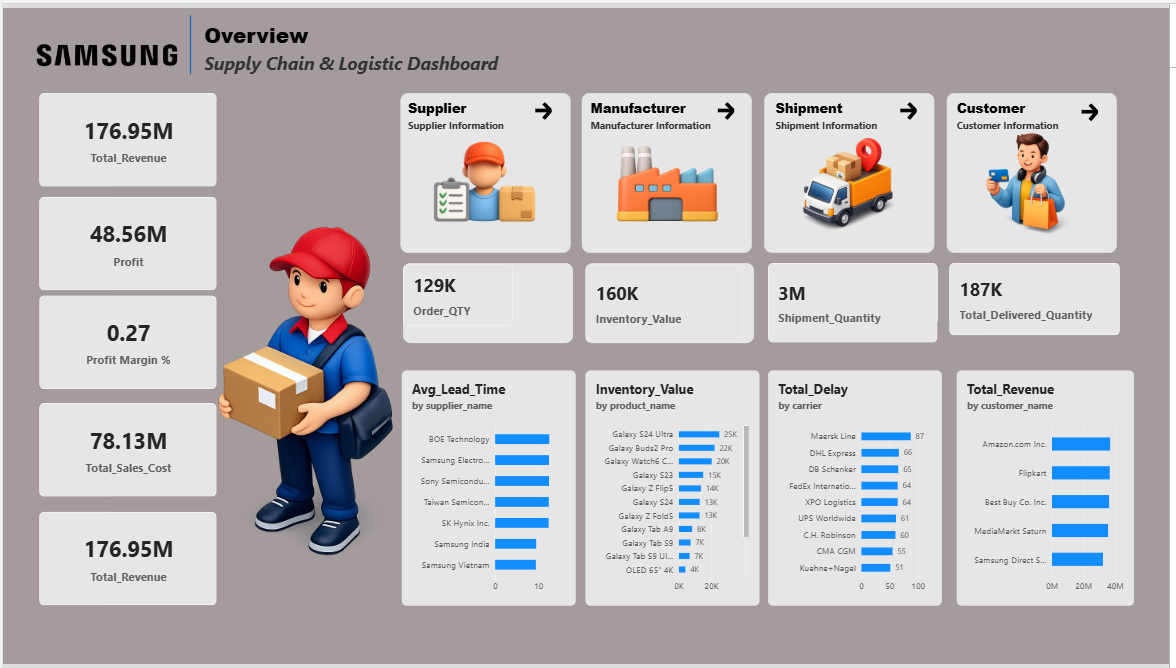

Layout of this report page (visuals, bound fields, positions):
{"tool":"powerbi","page":{"name":"Page 1","canvas":[1920,1080],"ordinal":0},"visuals":[{"type":"shape","box":[653.7,140,279.9,263.5],"z":0},{"type":"shape","box":[953.5,140,279.9,263.5],"z":1000},{"type":"shape","box":[1253.3,140,279.9,263.5],"z":2000},{"type":"shape","box":[1553.2,140,279.9,263.5],"z":3000},{"type":"image","box":[653.3,186.1,279.9,218.2],"z":4000},{"type":"image","box":[953.8,186.1,279.9,218.2],"z":5000},{"type":"image","box":[1254.3,186.1,279.9,218.2],"z":6000},{"type":"image","box":[1552.8,186.1,279.9,218.2],"z":7000},{"type":"actionButton","box":[846.8,140.8,86.4,59.7],"z":8000},{"type":"actionButton","box":[1147.3,140.8,86.4,59.7],"z":9000},{"type":"actionButton","box":[1447.8,140.8,86.4,59.7],"z":10000},{"type":"actionButton","box":[1746.2,142.8,86.4,59.7],"z":11000},{"type":"shape","title":"Supplier","box":[667.7,151.1,203.8,67.9],"z":12000},{"type":"shape","title":"Manufacturer","box":[968.2,151.1,205.8,67.9],"z":13000},{"type":"shape","title":"Shipment","box":[1272.8,151.1,203.8,67.9],"z":14000},{"type":"shape","title":"Customer","box":[1571.3,151.1,203.8,67.9],"z":15000},{"type":"shape","title":"Overview","box":[331.4,20.6,1506.7,88.5],"z":16000},{"type":"shape","box":[168.8,12.3,279.9,96.7],"z":17000},{"type":"cardVisual","fields":{"Data":["MeasuresTable.Total_Revenue"]},"box":[59.7,140,292.3,154.4],"z":18000},{"type":"cardVisual","fields":{"Data":["MeasuresTable.Profit"]},"box":[59.7,310.8,292.3,154.4],"z":19000},{"type":"cardVisual","fields":{"Data":["MeasuresTable.Profit Margin %"]},"box":[59.7,473.4,292.3,154.4],"z":20000},{"type":"cardVisual","fields":{"Data":["MeasuresTable.Total_Sales_Cost"]},"box":[59.7,650.4,292.3,154.4],"z":21000},{"type":"cardVisual","fields":{"Data":["MeasuresTable.Total_Revenue"]},"box":[59.7,829.5,292.3,154.4],"z":22000},{"type":"shape","box":[657.7,419.9,279.9,131.7],"z":23000},{"type":"shape","box":[958.2,419.9,277.9,131.7],"z":24000},{"type":"shape","box":[1258.7,419.9,279.9,105],"z":25000},{"type":"shape","box":[1557.2,419.9,279.9,105],"z":26000},{"type":"cardVisual","fields":{"Data":["MeasuresTable.Order_QTY"]},"box":[657.7,422,181.1,102.9],"z":27000},{"type":"cardVisual","fields":{"Data":["MeasuresTable.Inventory_Value"]},"box":[958.2,422,259.3,129.7],"z":28000},{"type":"cardVisual","fields":{"Data":["MeasuresTable.Total_Shipment_Quantity"]},"box":[1258.7,419.9,279.9,131.7],"z":29000},{"type":"cardVisual","fields":{"Data":["MeasuresTable.Total_Delivered_Quantity"]},"box":[1557.2,419.9,282,119.4],"z":30000},{"type":"clusteredBarChart","fields":{"Y":["MeasuresTable.Avg_Lead_Time"],"Category":["dim_supplier.supplier_name"]},"box":[655.6,596.9,286.1,387],"z":31000},{"type":"clusteredBarChart","fields":{"Y":["MeasuresTable.Inventory_Value"],"Category":["dim_product.product_name"]},"box":[958.2,596.9,286.1,387],"z":32000},{"type":"clusteredBarChart","fields":{"Category":["fact_shipment.carrier"],"Y":["MeasuresTable.Total_Delay"]},"box":[1258.7,596.9,286.1,387],"z":33000},{"type":"clusteredBarChart","fields":{"Y":["MeasuresTable.Total_Revenue"],"Category":["dim_customer.customer_name"]},"box":[1570.5,596.9,292.3,387],"z":34000},{"type":"image","box":[37,0,257.3,154.4],"z":35000},{"type":"textbox","box":[1770,473,150,154],"z":36000},{"type":"image","box":[172.9,203.8,673.1,876.8],"z":37000}]}

Visuals, with their boxes in screenshot pixels (x1, y1, x2, y2), scaled from the page's 1920x1080 canvas onto the 1176x668 screenshot:
shape: <bbox>400, 87, 572, 250</bbox>
shape: <bbox>584, 87, 755, 250</bbox>
shape: <bbox>768, 87, 939, 250</bbox>
shape: <bbox>951, 87, 1123, 250</bbox>
image: <bbox>400, 115, 572, 250</bbox>
image: <bbox>584, 115, 756, 250</bbox>
image: <bbox>768, 115, 940, 250</bbox>
image: <bbox>951, 115, 1123, 250</bbox>
actionButton: <bbox>519, 87, 572, 124</bbox>
actionButton: <bbox>703, 87, 756, 124</bbox>
actionButton: <bbox>887, 87, 940, 124</bbox>
actionButton: <bbox>1070, 88, 1122, 125</bbox>
"Supplier" shape: <bbox>409, 93, 534, 135</bbox>
"Manufacturer" shape: <bbox>593, 93, 719, 135</bbox>
"Shipment" shape: <bbox>780, 93, 904, 135</bbox>
"Customer" shape: <bbox>962, 93, 1087, 135</bbox>
"Overview" shape: <bbox>203, 13, 1126, 67</bbox>
shape: <bbox>103, 8, 275, 67</bbox>
cardVisual - MeasuresTable.Total_Revenue: <bbox>37, 87, 216, 182</bbox>
cardVisual - MeasuresTable.Profit: <bbox>37, 192, 216, 288</bbox>
cardVisual - MeasuresTable.Profit Margin %: <bbox>37, 293, 216, 388</bbox>
cardVisual - MeasuresTable.Total_Sales_Cost: <bbox>37, 402, 216, 498</bbox>
cardVisual - MeasuresTable.Total_Revenue: <bbox>37, 513, 216, 609</bbox>
shape: <bbox>403, 260, 574, 341</bbox>
shape: <bbox>587, 260, 757, 341</bbox>
shape: <bbox>771, 260, 942, 325</bbox>
shape: <bbox>954, 260, 1125, 325</bbox>
cardVisual - MeasuresTable.Order_QTY: <bbox>403, 261, 514, 325</bbox>
cardVisual - MeasuresTable.Inventory_Value: <bbox>587, 261, 746, 341</bbox>
cardVisual - MeasuresTable.Total_Shipment_Quantity: <bbox>771, 260, 942, 341</bbox>
cardVisual - MeasuresTable.Total_Delivered_Quantity: <bbox>954, 260, 1127, 334</bbox>
clusteredBarChart - MeasuresTable.Avg_Lead_Time x dim_supplier.supplier_name: <bbox>402, 369, 577, 609</bbox>
clusteredBarChart - MeasuresTable.Inventory_Value x dim_product.product_name: <bbox>587, 369, 762, 609</bbox>
clusteredBarChart - fact_shipment.carrier x MeasuresTable.Total_Delay: <bbox>771, 369, 946, 609</bbox>
clusteredBarChart - MeasuresTable.Total_Revenue x dim_customer.customer_name: <bbox>962, 369, 1141, 609</bbox>
image: <bbox>23, 0, 180, 95</bbox>
textbox: <bbox>1084, 293, 1175, 388</bbox>
image: <bbox>106, 126, 518, 667</bbox>
